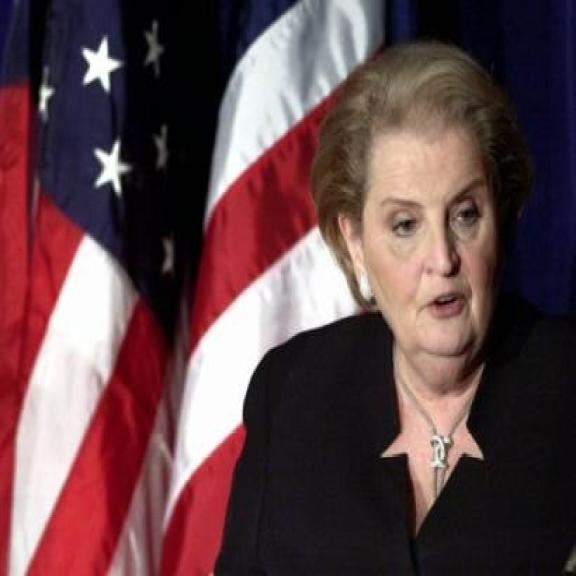face: (332, 117, 500, 364)
